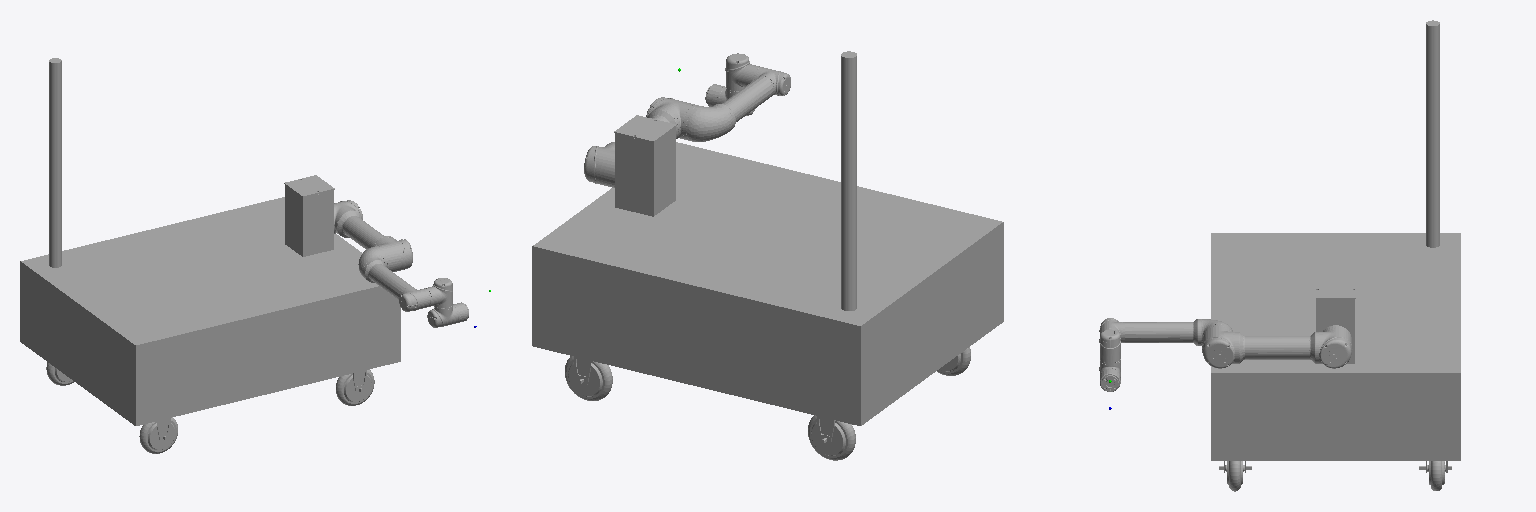
URDF robot description (ur5e):
<?xml version="1.0" encoding="utf-8"?>
<!-- =================================================================================== -->
<!-- |    This document was autogenerated by xacro from ./ur5e_robot.urdf.xacro        | -->
<!-- |    EDITING THIS FILE BY HAND IS NOT RECOMMENDED                                 | -->
<!-- =================================================================================== -->
<robot name="ur5e" xmlns:xacro="http://ros.org/wiki/xacro">
  <gazebo>
    <plugin filename="libgazebo_ros_control.so" name="ros_control">
      <!--robotNamespace>/</robotNamespace-->
      <!--robotSimType>gazebo_ros_control/DefaultRobotHWSim</robotSimType-->
    </plugin>
    <!--
    <plugin name="gazebo_ros_power_monitor_controller" filename="libgazebo_ros_power_monitor.so">
      <alwaysOn>true</alwaysOn>
      <updateRate>1.0</updateRate>
      <timeout>5</timeout>
      <powerStateTopic>power_state</powerStateTopic>
      <powerStateRate>10.0</powerStateRate>
      <fullChargeCapacity>87.78</fullChargeCapacity>     
      <dischargeRate>-474</dischargeRate>
      <chargeRate>525</chargeRate>
      <dischargeVoltage>15.52</dischargeVoltage>
      <chargeVoltage>16.41</chargeVoltage>
    </plugin>
-->
  </gazebo>
  <!--property name="shoulder_height" value="0.089159" /-->
  <!--property name="shoulder_offset" value="0.13585" /-->
  <!-- shoulder_offset - elbow_offset + wrist_1_length = 0.10915 -->
  <!--property name="upper_arm_length" value="0.42500" /-->
  <!--property name="elbow_offset" value="0.1197" /-->
  <!-- CAD measured -->
  <!--property name="forearm_length" value="0.39225" /-->
  <!--property name="wrist_1_length" value="0.093" /-->
  <!-- CAD measured -->
  <!--property name="wrist_2_length" value="0.09465" /-->
  <!-- In CAD this distance is 0.930, but in the spec it is 0.09465 -->
  <!--property name="wrist_3_length" value="0.0823" /-->
  <!-- manually measured -->

  <link name="car_link">
    <visual>
      <origin rpy="0.0 0.0 0.0" xyz="0.0 0.0 0.207"/>
      <geometry>
        <mesh filename="package://bit_robotcar/meshes/car_link.dae"/>
      </geometry>
      <material name="LightGrey">
        <color rgba="0.7 0.7 0.7 1.0"/>
      </material>
    </visual>
    <collision>
      <geometry>
        <mesh filename="package://bit_robotcar/meshes/car_link.dae"/>
      </geometry>
    </collision>
    <inertial>
      <mass value="379.0"/>
      <origin rpy="0 0 0" xyz="0.0 0.0 0.0"/>
      <inertia ixx="29.73" ixy="0.0" ixz="0.0" iyy="49.44" iyz="0.0" izz="71.42"/>
    </inertial>
  </link>
  <joint name="car_base_joint" type="fixed">
    <parent link="car_link"/>
    <child link="base_link"/>
    <origin rpy="0.0 0.0 1.57079" xyz="0.45 0 0.490"/>
    <axis xyz="0 0 1"/>
    <limit effort="150.0" lower="-6.28318530718" upper="6.28318530718" velocity="3.15"/>
    <dynamics damping="0.0" friction="0.0"/>
  </joint>

  <link name="base_link">
    <visual>
      <geometry>
        <mesh filename="package://bit_robotcar/meshes/ur5e/visual/base.dae"/>
      </geometry>
      <material name="LightGrey">
        <color rgba="0.7 0.7 0.7 1.0"/>
      </material>
    </visual>
    <collision>
      <geometry>
        <mesh filename="package://bit_robotcar/meshes/ur5e/collision/base.stl"/>
      </geometry>
    </collision>
    <inertial>
      <mass value="4.0"/>
      <origin rpy="0 0 0" xyz="0.0 0.0 0.0"/>
      <inertia ixx="0.00443333156" ixy="0.0" ixz="0.0" iyy="0.00443333156" iyz="0.0" izz="0.0072"/>
    </inertial>
  </link>

  <joint name="shoulder_pan_joint" type="revolute">
    <parent link="base_link"/>
    <child link="shoulder_link"/>
    <origin rpy="0.0 0.0 -3.141593" xyz="0.0 0.0 0.163"/>
    <axis xyz="0 0 1"/>
    <limit effort="150.0" lower="-6.28318530718" upper="6.28318530718" velocity="3.14"/>
    <dynamics damping="0.0" friction="0.0"/>
  </joint>
  <link name="shoulder_link">
    <visual>
      <geometry>
        <mesh filename="package://bit_robotcar/meshes/ur5e/visual/shoulder.dae"/>
      </geometry>
      <material name="LightGrey">
        <color rgba="0.7 0.7 0.7 1.0"/>
      </material>
    </visual>
    <collision>
      <geometry>
        <mesh filename="package://bit_robotcar/meshes/ur5e/collision/shoulder.stl"/>
      </geometry>
    </collision>
    <inertial>
      <mass value="3.7"/>
      <origin rpy="0 0 0" xyz="0.0 0.0 0.0"/>
      <inertia ixx="0.010267495893" ixy="0.0" ixz="0.0" iyy="0.010267495893" iyz="0.0" izz="0.00666"/>
    </inertial>
  </link>
  <joint name="shoulder_lift_joint" type="revolute">
    <parent link="shoulder_link"/>
    <child link="upper_arm_link"/>
    <origin rpy="0.0 1.57079632679 0.0" xyz="0.0 0.138 0.0"/>
    <axis xyz="0 1 0"/>
    <limit effort="150.0" lower="-6.28318530718" upper="6.28318530718" velocity="3.14"/>
    <dynamics damping="0.0" friction="0.0"/>
  </joint>
  <link name="upper_arm_link">
    <visual>
      <geometry>
        <mesh filename="package://bit_robotcar/meshes/ur5e/visual/upperarm.dae"/>
      </geometry>
      <material name="LightGrey">
        <color rgba="0.7 0.7 0.7 1.0"/>
      </material>
    </visual>
    <collision>
      <geometry>
        <mesh filename="package://bit_robotcar/meshes/ur5e/collision/upperarm.stl"/>
      </geometry>
    </collision>
    <inertial>
      <mass value="8.393"/>
      <origin rpy="0 0 0" xyz="0.0 0.0 0.2125"/>
      <inertia ixx="0.133885781862" ixy="0.0" ixz="0.0" iyy="0.133885781862" iyz="0.0" izz="0.0151074"/>
    </inertial>
  </link>
  <joint name="elbow_joint" type="revolute">
    <parent link="upper_arm_link"/>
    <child link="forearm_link"/>
    <origin rpy="0.0 0.0 0.0" xyz="0.0 -0.131 0.425"/>
    <axis xyz="0 1 0"/>
    <limit effort="150.0" lower="-3.14159265359" upper="3.14159265359" velocity="3.14"/>
    <dynamics damping="0.0" friction="0.0"/>
  </joint>
  <link name="forearm_link">
    <visual>
      <geometry>
        <mesh filename="package://bit_robotcar/meshes/ur5e/visual/forearm.dae"/>
      </geometry>
      <material name="LightGrey">
        <color rgba="0.7 0.7 0.7 1.0"/>
      </material>
    </visual>
    <collision>
      <geometry>
        <mesh filename="package://bit_robotcar/meshes/ur5e/collision/forearm.stl"/>
      </geometry>
    </collision>
    <inertial>
      <mass value="2.275"/>
      <origin rpy="0 0 0" xyz="0.0 0.0 0.196"/>
      <inertia ixx="0.0311796208615" ixy="0.0" ixz="0.0" iyy="0.0311796208615" iyz="0.0" izz="0.004095"/>
    </inertial>
  </link>
  <joint name="wrist_1_joint" type="revolute">
    <parent link="forearm_link"/>
    <child link="wrist_1_link"/>
    <origin rpy="0.0 1.57079632679 0.0" xyz="0.0 0.0 0.392"/>
    <axis xyz="0 1 0"/>
    <limit effort="28.0" lower="-6.28318530718" upper="6.28318530718" velocity="6.28"/>
    <dynamics damping="0.0" friction="0.0"/>
  </joint>
  <link name="wrist_1_link">
    <visual>
      <geometry>
        <mesh filename="package://bit_robotcar/meshes/ur5e/visual/wrist1.dae"/>
      </geometry>
      <material name="LightGrey">
        <color rgba="0.7 0.7 0.7 1.0"/>
      </material>
    </visual>
    <collision>
      <geometry>
        <mesh filename="package://bit_robotcar/meshes/ur5e/collision/wrist1.stl"/>
      </geometry>
    </collision>
    <inertial>
      <mass value="1.219"/>
      <origin rpy="0 0 0" xyz="0.0 0.127 0.0"/>
      <inertia ixx="0.00255989897604" ixy="0.0" ixz="0.0" iyy="0.00255989897604" iyz="0.0" izz="0.0021942"/>
    </inertial>
  </link>
  <joint name="wrist_2_joint" type="revolute">
    <parent link="wrist_1_link"/>
    <child link="wrist_2_link"/>
    <origin rpy="0.0 0.0 0.0" xyz="0.0 0.127 0.0"/>
    <axis xyz="0 0 1"/>
    <limit effort="28.0" lower="-6.28318530718" upper="6.28318530718" velocity="6.28"/>
    <dynamics damping="0.0" friction="0.0"/>
  </joint>
  <link name="wrist_2_link">
    <visual>
      <geometry>
        <mesh filename="package://bit_robotcar/meshes/ur5e/visual/wrist2.dae"/>
      </geometry>
      <material name="LightGrey">
        <color rgba="0.7 0.7 0.7 1.0"/>
      </material>
    </visual>
    <collision>
      <geometry>
        <mesh filename="package://bit_robotcar/meshes/ur5e/collision/wrist2.stl"/>
      </geometry>
    </collision>
    <inertial>
      <mass value="1.219"/>
      <origin rpy="0 0 0" xyz="0.0 0.0 0.1"/>
      <inertia ixx="0.00255989897604" ixy="0.0" ixz="0.0" iyy="0.00255989897604" iyz="0.0" izz="0.0021942"/>
    </inertial>
  </link>
  <joint name="wrist_3_joint" type="revolute">
    <parent link="wrist_2_link"/>
    <child link="wrist_3_link"/>
    <origin rpy="0.0 0.0 0.0" xyz="0.0 0.0 0.1"/>
    <axis xyz="0 1 0"/>
    <limit effort="28.0" lower="-6.28318530718" upper="6.28318530718" velocity="6.28"/>
    <dynamics damping="0.0" friction="0.0"/>
  </joint>
  <link name="wrist_3_link">
    <visual>
      <geometry>
        <mesh filename="package://bit_robotcar/meshes/ur5e/visual/wrist3.dae"/>
      </geometry>
      <material name="LightGrey">
        <color rgba="0.7 0.7 0.7 1.0"/>
      </material>
    </visual>
    <collision>
      <geometry>
        <mesh filename="package://bit_robotcar/meshes/ur5e/collision/wrist3.stl"/>
      </geometry>
    </collision>
    <inertial>
      <mass value="0.1879"/>
      <origin rpy="1.57079632679 0 0" xyz="0.0 0.0771 0.0"/>
      <inertia ixx="9.89041005217e-05" ixy="0.0" ixz="0.0" iyy="9.89041005217e-05" iyz="0.0" izz="0.0001321171875"/>
    </inertial>
  </link>
  <joint name="grasping_frame_joint" type="fixed">
    <parent link="wrist_3_link"/>
    <child link ="grasping_frame"/>
    <origin xyz="0 0.09237 0" rpy="0 0 0"/>
  </joint>
  <link name="grasping_frame">
  <!-- this link refers to end effector.  -->
    <visual>
      <geometry>
        <mesh filename="package://bit_robotcar/meshes/ur5e/visual/endEffector_penzi.dae"/>
        <!-- <mesh filename="package://bit_robotcar/meshes/ur5/visual/endEffector.dae"/> -->
      </geometry>
      <material name="LightGrey">
        <color rgba="0.7 0.7 0.7 1.0"/>
      </material>
    </visual>
    <!-- <collision>
      <geometry>
        <mesh filename="package://bit_robotcar/meshes/ur5/collision/wrist3.stl"/>
      </geometry>
    </collision> -->
    <inertial>
      <mass value="0.1879"/>
      <origin rpy="0 0 0" xyz="0.0 162.25 0.0"/>
      <inertia ixx="0.0171364731454" ixy="0.0" ixz="0.0" iyy="0.0171364731454" iyz="0.0" izz="0.033822"/>
    </inertial>
  </link>
  <joint name="infrared_joint" type="fixed">
    <origin xyz="0.0 0.05147 0.077" rpy="-1.57079 0.0 0.0"/>
    <parent link="grasping_frame"/>
    <child link="infrared_link"/>
  </joint>
  <link name="infrared_link">
  <!-- this link refers to the surface of magnet -->
    <inertial>
      <mass value="1.219"/>
      <origin rpy="0 0 0" xyz="0.0 0.0 0.0"/>
      <inertia ixx="0.111172755531" ixy="0.0" ixz="0.0" iyy="0.111172755531" iyz="0.0" izz="0.21942"/>
    </inertial>
    <visual name="">
      <origin xyz="0.0 0.0 0.0" rpy="0.0 0.0 0.0"/>
      <geometry>
          <sphere radius="0.005"/>
      </geometry>
      <material name="">
        <color rgba="0.0 0.0 1.0 1.0"/>
        <texture filename=""/>
      </material>
    </visual>
  </link>
  <joint name="penzi_joint" type="fixed">
    <parent link="grasping_frame"/>
    <child link="penzi_link"/>
    <origin xyz="0.0 0.119 -0.0615 " rpy="-1.57079 0.0 0.0"/>
  </joint>
  <link name="penzi_link">
    <inertial>
      <mass value="0.1879"/>
      <origin rpy="0 0 0" xyz="0.0 0 0.0"/>
      <inertia ixx="0.0171364731454" ixy="0.0" ixz="0.0" iyy="0.0171364731454" iyz="0.0" izz="0.033822"/>
    </inertial>
    <visual name="">
      <origin xyz="0.0 0.0 0.0" rpy="0.0 0.0 0.0"/>
      <geometry>
          <sphere radius="0.005"/>
      </geometry>
      <material name="">
        <color rgba="0.0 1.0 0.0 1.0"/>
        <texture filename=""/>
      </material>
    </visual>
    <!-- <collision>
      <origin xyz="0.0 0.0 0.0" rpy="0.0 0.0 0.0"/>
      <geometry>
        <box size="0.0 0.0 0.0"/>
      </geometry>
    </collision> -->
  </link>

  <transmission name="shoulder_pan_trans">
    <type>transmission_interface/SimpleTransmission</type>
    <joint name="shoulder_pan_joint">
      <hardwareInterface>hardware_interface/PositionJointInterface</hardwareInterface>
    </joint>
    <actuator name="shoulder_pan_motor">
      <mechanicalReduction>1</mechanicalReduction>
    </actuator>
  </transmission>
  <transmission name="shoulder_lift_trans">
    <type>transmission_interface/SimpleTransmission</type>
    <joint name="shoulder_lift_joint">
      <hardwareInterface>hardware_interface/PositionJointInterface</hardwareInterface>
    </joint>
    <actuator name="shoulder_lift_motor">
      <mechanicalReduction>1</mechanicalReduction>
    </actuator>
  </transmission>
  <transmission name="elbow_trans">
    <type>transmission_interface/SimpleTransmission</type>
    <joint name="elbow_joint">
      <hardwareInterface>hardware_interface/PositionJointInterface</hardwareInterface>
    </joint>
    <actuator name="elbow_motor">
      <mechanicalReduction>1</mechanicalReduction>
    </actuator>
  </transmission>
  <transmission name="wrist_1_trans">
    <type>transmission_interface/SimpleTransmission</type>
    <joint name="wrist_1_joint">
      <hardwareInterface>hardware_interface/PositionJointInterface</hardwareInterface>
    </joint>
    <actuator name="wrist_1_motor">
      <mechanicalReduction>1</mechanicalReduction>
    </actuator>
  </transmission>
  <transmission name="wrist_2_trans">
    <type>transmission_interface/SimpleTransmission</type>
    <joint name="wrist_2_joint">
      <hardwareInterface>hardware_interface/PositionJointInterface</hardwareInterface>
    </joint>
    <actuator name="wrist_2_motor">
      <mechanicalReduction>1</mechanicalReduction>
    </actuator>
  </transmission>
  <transmission name="wrist_3_trans">
    <type>transmission_interface/SimpleTransmission</type>
    <joint name="wrist_3_joint">
      <hardwareInterface>hardware_interface/PositionJointInterface</hardwareInterface>
    </joint>
    <actuator name="wrist_3_motor">
      <mechanicalReduction>1</mechanicalReduction>
    </actuator>
  </transmission>
  <gazebo reference="shoulder_link">
    <selfCollide>true</selfCollide>
  </gazebo>
  <gazebo reference="upper_arm_link">
    <selfCollide>true</selfCollide>
  </gazebo>
  <gazebo reference="forearm_link">
    <selfCollide>true</selfCollide>
  </gazebo>
  <gazebo reference="wrist_1_link">
    <selfCollide>true</selfCollide>
  </gazebo>
  <gazebo reference="wrist_3_link">
    <selfCollide>true</selfCollide>
  </gazebo>
  <gazebo reference="wrist_2_link">
    <selfCollide>true</selfCollide>
  </gazebo>
  <gazebo reference="ee_link">
    <selfCollide>true</selfCollide>
  </gazebo>
</robot>

--- Facts derived from the render (not from the file) ---
3 views of the same robot in one strip: view 1: azimuth 30°, elevation 25°; view 2: azimuth 150°, elevation 25°; view 3: azimuth 270°, elevation 25° (orthographic).
Robot: ur5e — 11 links, 10 joints (6 revolute, 4 fixed); root link car_link; default pose: all joints at 0.
Visible links, largest first — view 1: car_link, upper_arm_link, forearm_link, wrist_1_link, wrist_2_link; view 2: car_link, forearm_link, upper_arm_link, wrist_1_link; view 3: car_link, upper_arm_link, forearm_link, wrist_1_link.
Boxes of the visible links, bbox=[...] form: car_link: bbox=[20, 58, 400, 453]; upper_arm_link: bbox=[334, 200, 412, 271]; forearm_link: bbox=[358, 247, 431, 311]; wrist_1_link: bbox=[426, 278, 452, 309]; wrist_2_link: bbox=[427, 304, 459, 327]; car_link: bbox=[532, 51, 1003, 460]; forearm_link: bbox=[686, 67, 790, 141]; upper_arm_link: bbox=[584, 97, 698, 187]; wrist_1_link: bbox=[725, 53, 759, 92]; car_link: bbox=[1211, 20, 1460, 491]; upper_arm_link: bbox=[1202, 324, 1352, 368]; forearm_link: bbox=[1099, 318, 1232, 345]; wrist_1_link: bbox=[1099, 329, 1120, 364].
Bounding box of the posed robot: 1.4 × 1.31 × 1.42 m (x, y, z).
8 mesh visuals loaded from 9 distinct referenced files (8 Collada DAE); not drawn: 1 (file found but could not be loaded).
